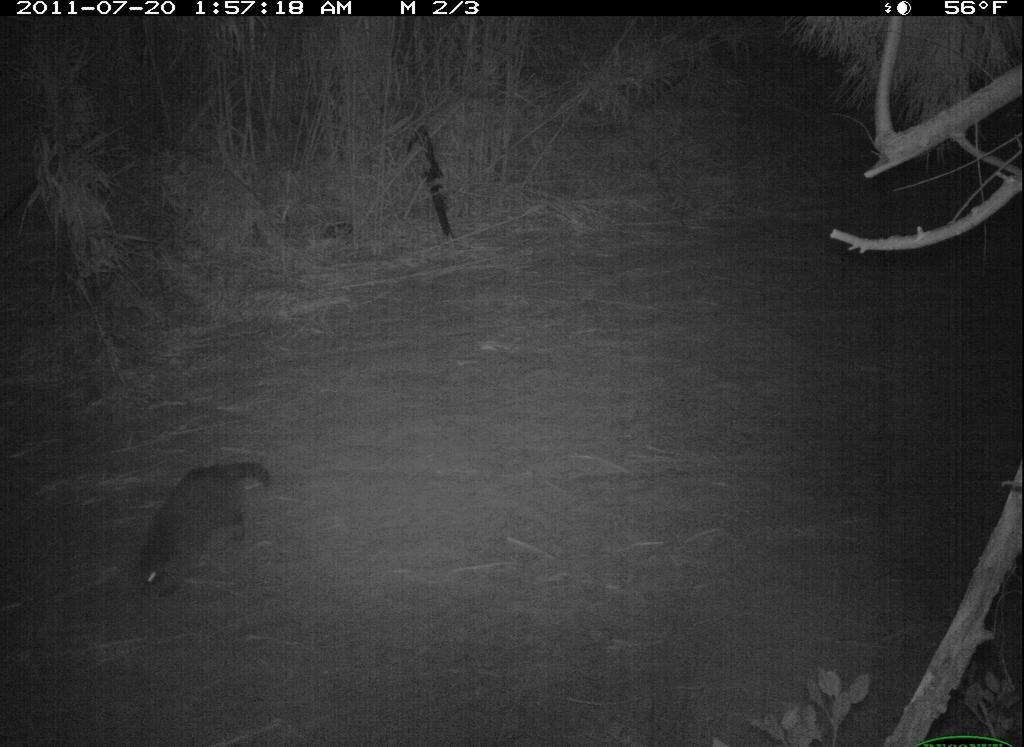raccoon: (137, 454, 277, 616)
